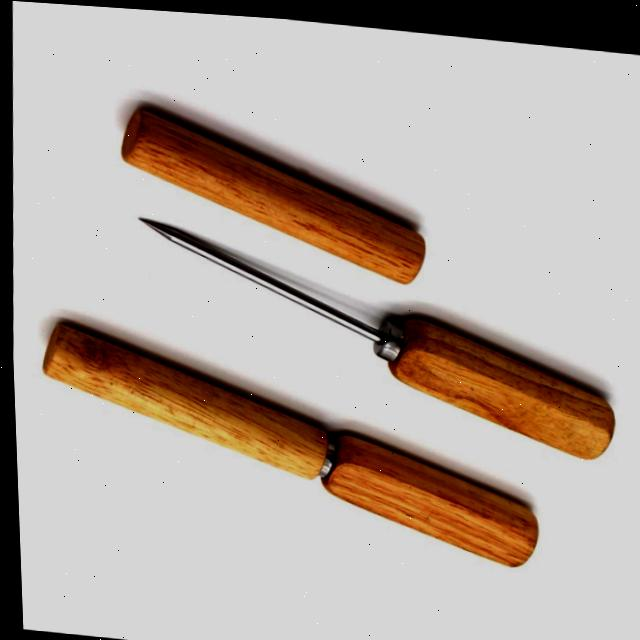ice pick: (28, 304, 542, 563), (126, 211, 619, 454)
